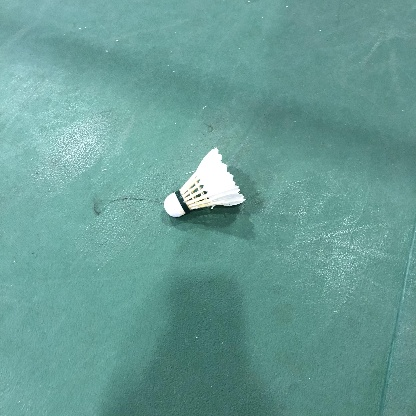ball_single: (164, 147, 245, 217)
